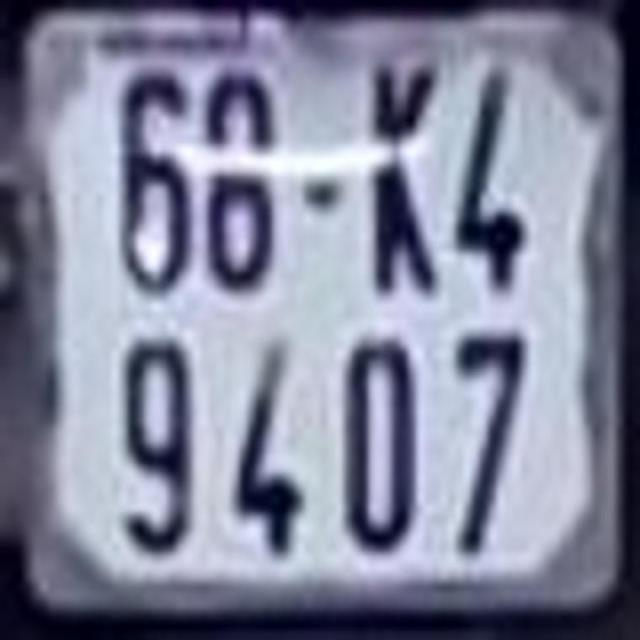0: (345, 332, 417, 558)
4: (238, 337, 308, 560), (461, 63, 527, 286)
6: (117, 63, 190, 291)
7: (450, 323, 529, 562)
8: (204, 72, 284, 299)
9: (124, 338, 192, 554)
K: (373, 60, 440, 294)
